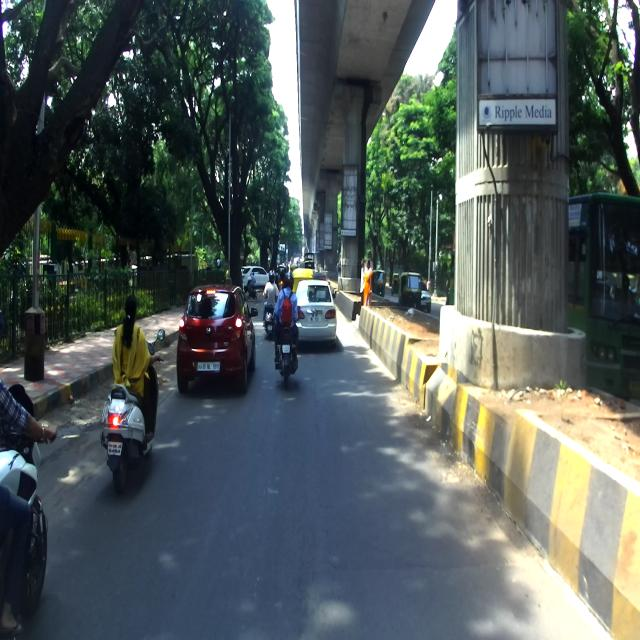car ahead at: (182, 279, 262, 394), (298, 281, 340, 351)
motorcycle ahead at: (103, 378, 167, 489), (274, 328, 302, 392)
